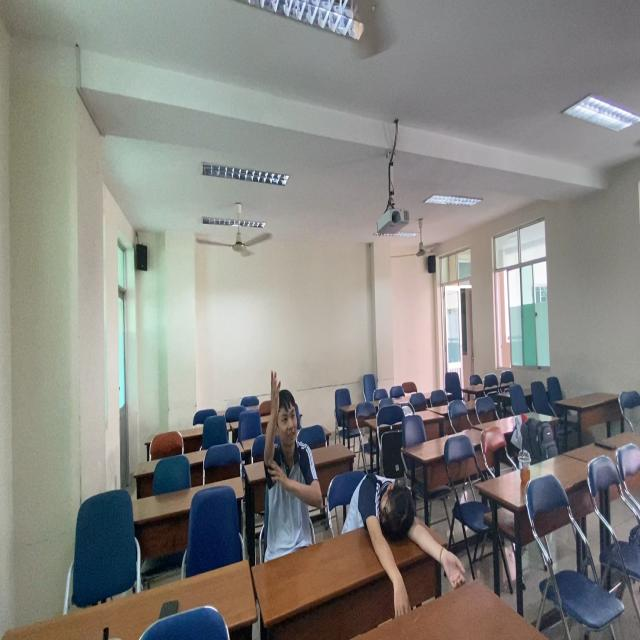raise_hand: (261, 368, 328, 533)
sleep: (318, 447, 435, 562)
